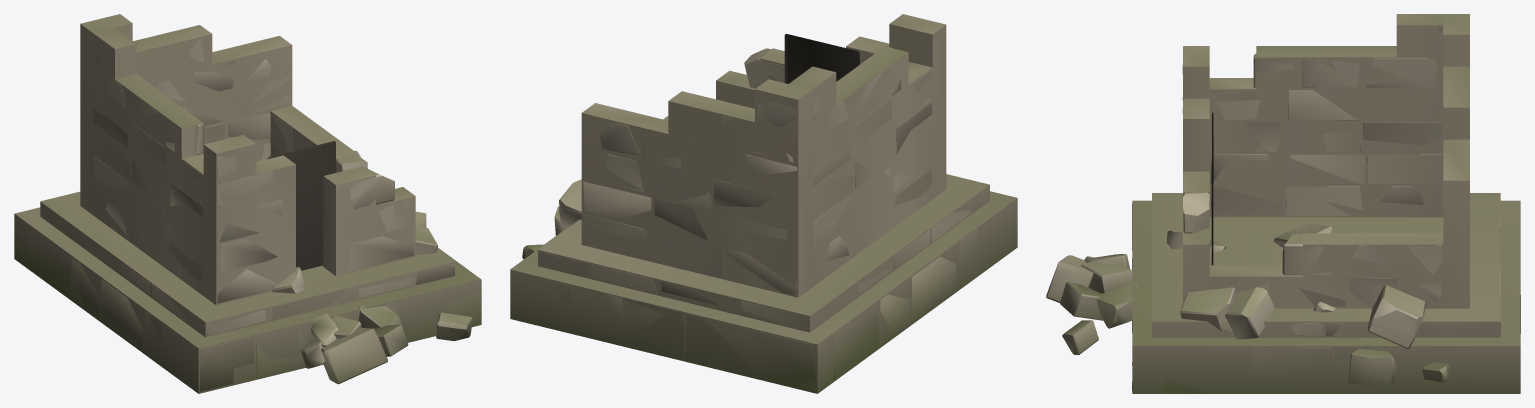
The model's file is tombs_house_broken.glb.
3 views of the same model, side by side, from view 1: azimuth 30°, elevation 25°; view 2: azimuth 150°, elevation 25°; view 3: azimuth 270°, elevation 25° (orthographic). The views are drawn at different scales.
Parts seen in each view (by area): view 1: tombs_house_broken_far, tombs_house_broken; view 2: tombs_house_broken_far, tombs_house_broken; view 3: tombs_house_broken_far, tombs_house_broken.
Boxes of the visible parts, left/top/right/bottom form: tombs_house_broken_far: left=14, top=14, right=481, bottom=393; tombs_house_broken: left=29, top=38, right=479, bottom=391; tombs_house_broken_far: left=510, top=14, right=1017, bottom=393; tombs_house_broken: left=512, top=33, right=977, bottom=387; tombs_house_broken_far: left=1132, top=14, right=1520, bottom=393; tombs_house_broken: left=1046, top=27, right=1520, bottom=392.
Bounding box in the file's own units: 17.11 × 12.8 × 21.52.
